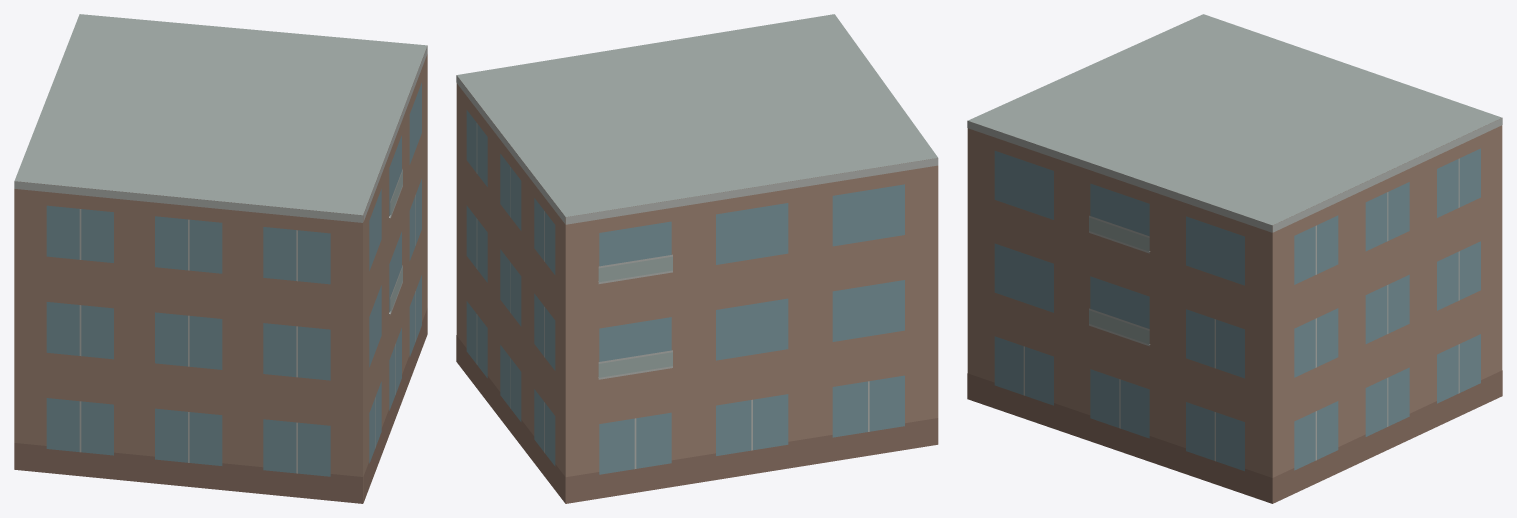
Rendered from survey-upis-32656250.glb.
The picture shows the model from 3 angles, left to right: view 1: azimuth 30°, elevation 25°; view 2: azimuth 150°, elevation 25°; view 3: azimuth 270°, elevation 25°; orthographic projection. The views are drawn at different scales.
Parts seen in each view (by area): view 1: survey-upis-32656250.tmp; view 2: survey-upis-32656250.tmp; view 3: survey-upis-32656250.tmp.
Boxes of the visible parts, x1=… form: survey-upis-32656250.tmp: x1=14, y1=14, x2=427, y2=503; survey-upis-32656250.tmp: x1=456, y1=14, x2=938, y2=503; survey-upis-32656250.tmp: x1=967, y1=14, x2=1502, y2=503.
Bounding box in the file's own units: 14.91 × 9.15 × 15.94.
